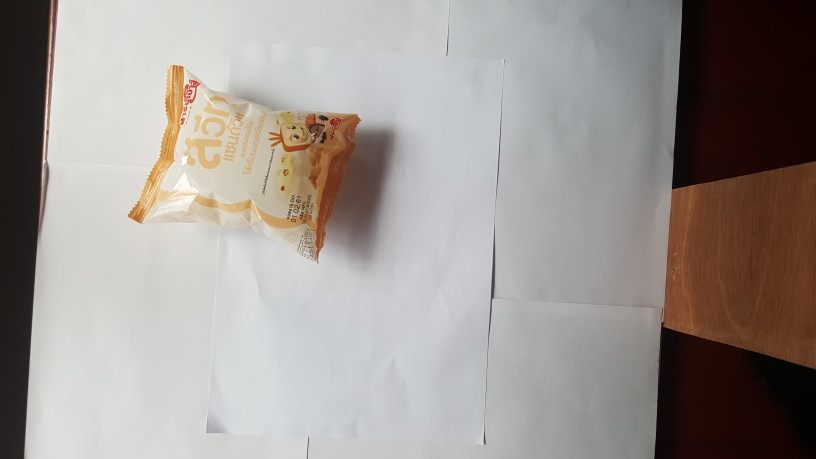farmhouse-sweetsandwich-almond: (108, 60, 367, 273)
